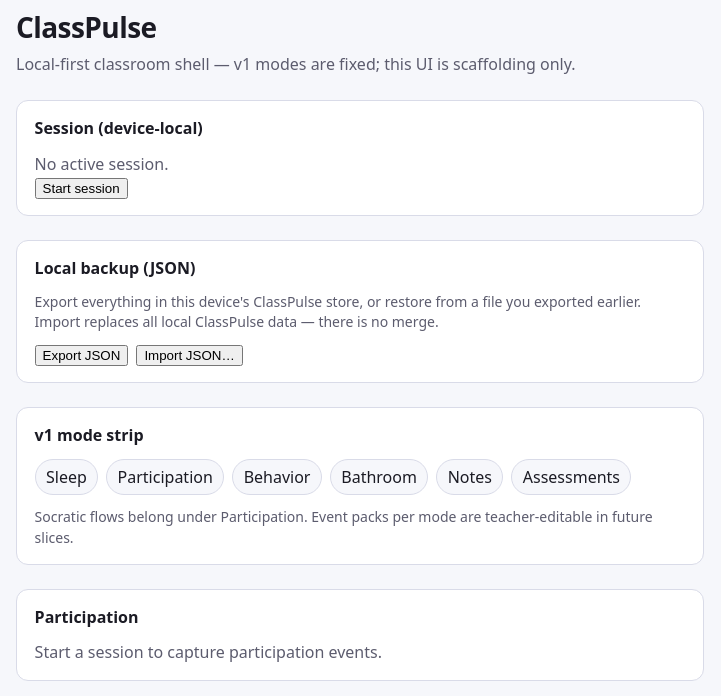
Test case: Session lifecycle (shell) › starting a session clears the empty state and shows the session with participation as default mode
Click the button "Start session".
click(81, 188)  # box [35,178,128,199]
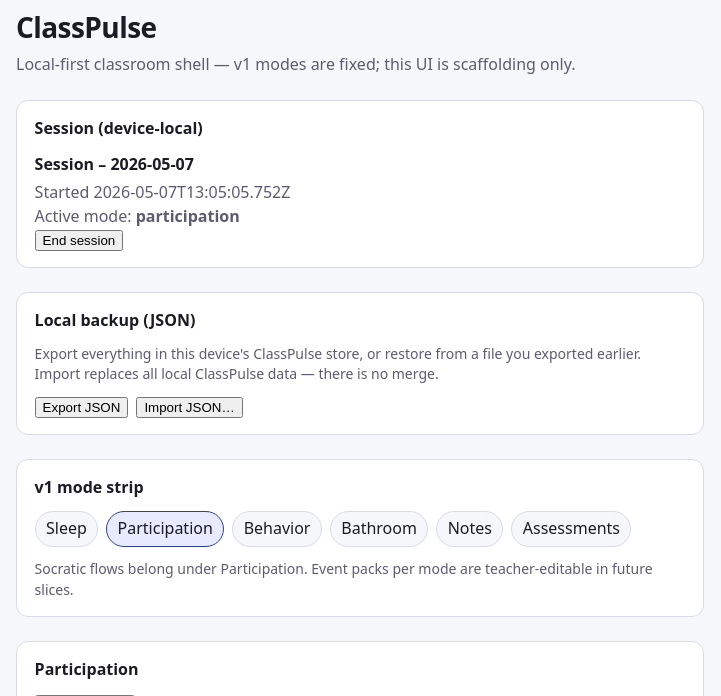
Expected: the button "End session" is shown, [35,230,123,251]
Expected: the text "No active session" is gone
Expected: the text "participation" is shown, [136,204,240,226]
